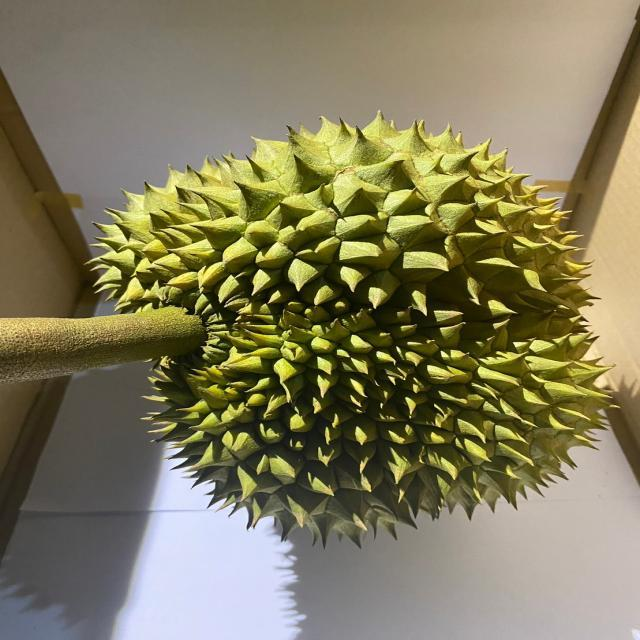immature: (74, 106, 624, 549)
